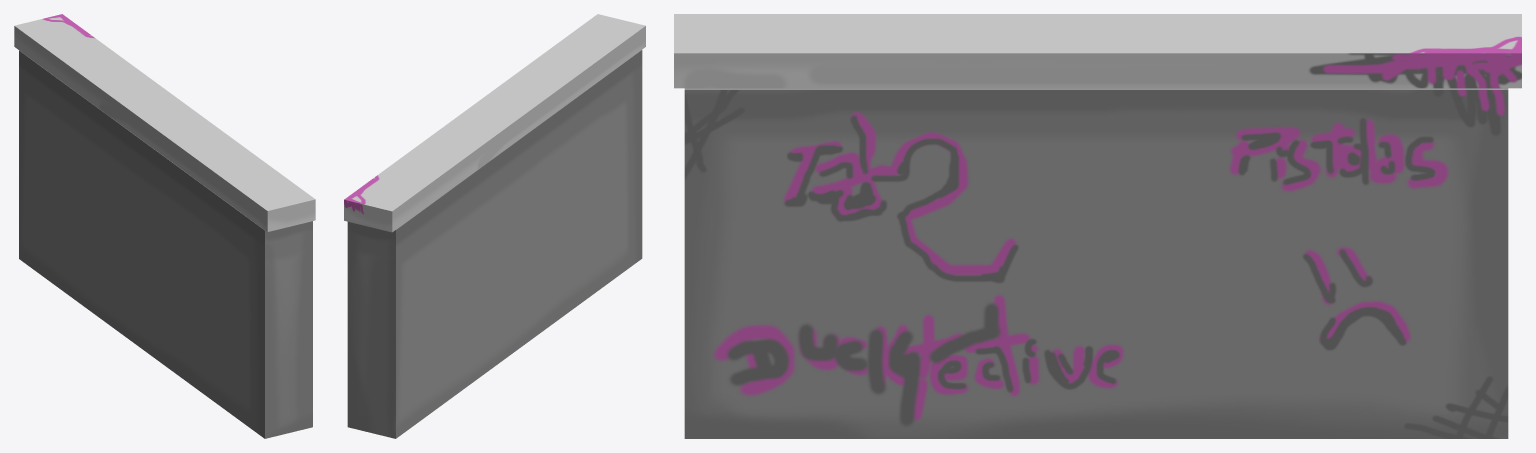
File: muro1texturacomgraffiti.fbx
The picture shows the model from 3 angles, left to right: view 1: azimuth 30°, elevation 25°; view 2: azimuth 150°, elevation 25°; view 3: azimuth 270°, elevation 25°; orthographic projection. The views are drawn at different scales.
Parts seen in each view (by area): view 1: Cube; view 2: Cube; view 3: Cube.
Boxes of the visible parts, bbox=[...] form: Cube: bbox=[14, 14, 315, 438]; Cube: bbox=[344, 14, 645, 438]; Cube: bbox=[674, 14, 1521, 438].
Bounding box in the file's own units: 79.94 × 362 × 722.
